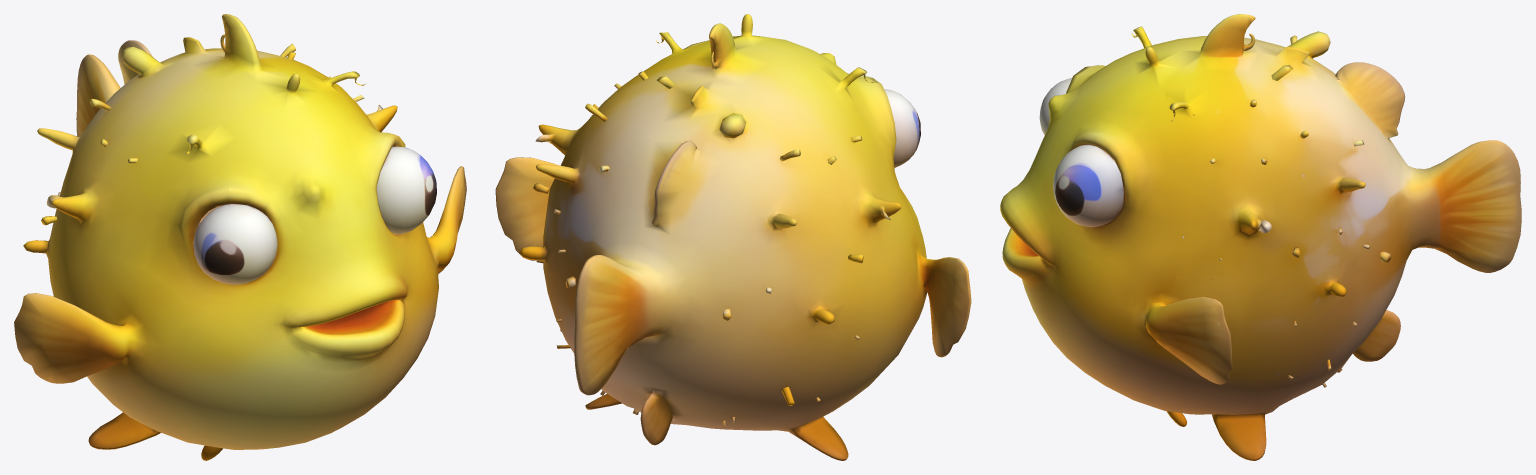
File: lantern_puff.fbx
The picture shows the model from 3 angles, left to right: view 1: azimuth 30°, elevation 25°; view 2: azimuth 150°, elevation 25°; view 3: azimuth 270°, elevation 25°; orthographic projection. The views are drawn at different scales.
Visible parts, largest first — view 1: tripo_node_341558ce; view 2: tripo_node_341558ce; view 3: tripo_node_341558ce.
Part boxes in pixels (bbox=[...]): tripo_node_341558ce: bbox=[14, 14, 466, 460]; tripo_node_341558ce: bbox=[495, 14, 971, 460]; tripo_node_341558ce: bbox=[1000, 14, 1521, 460].
Bounding box in the file's own units: 0.9849 × 0.8364 × 0.9995.
1 material, 1 textured.
